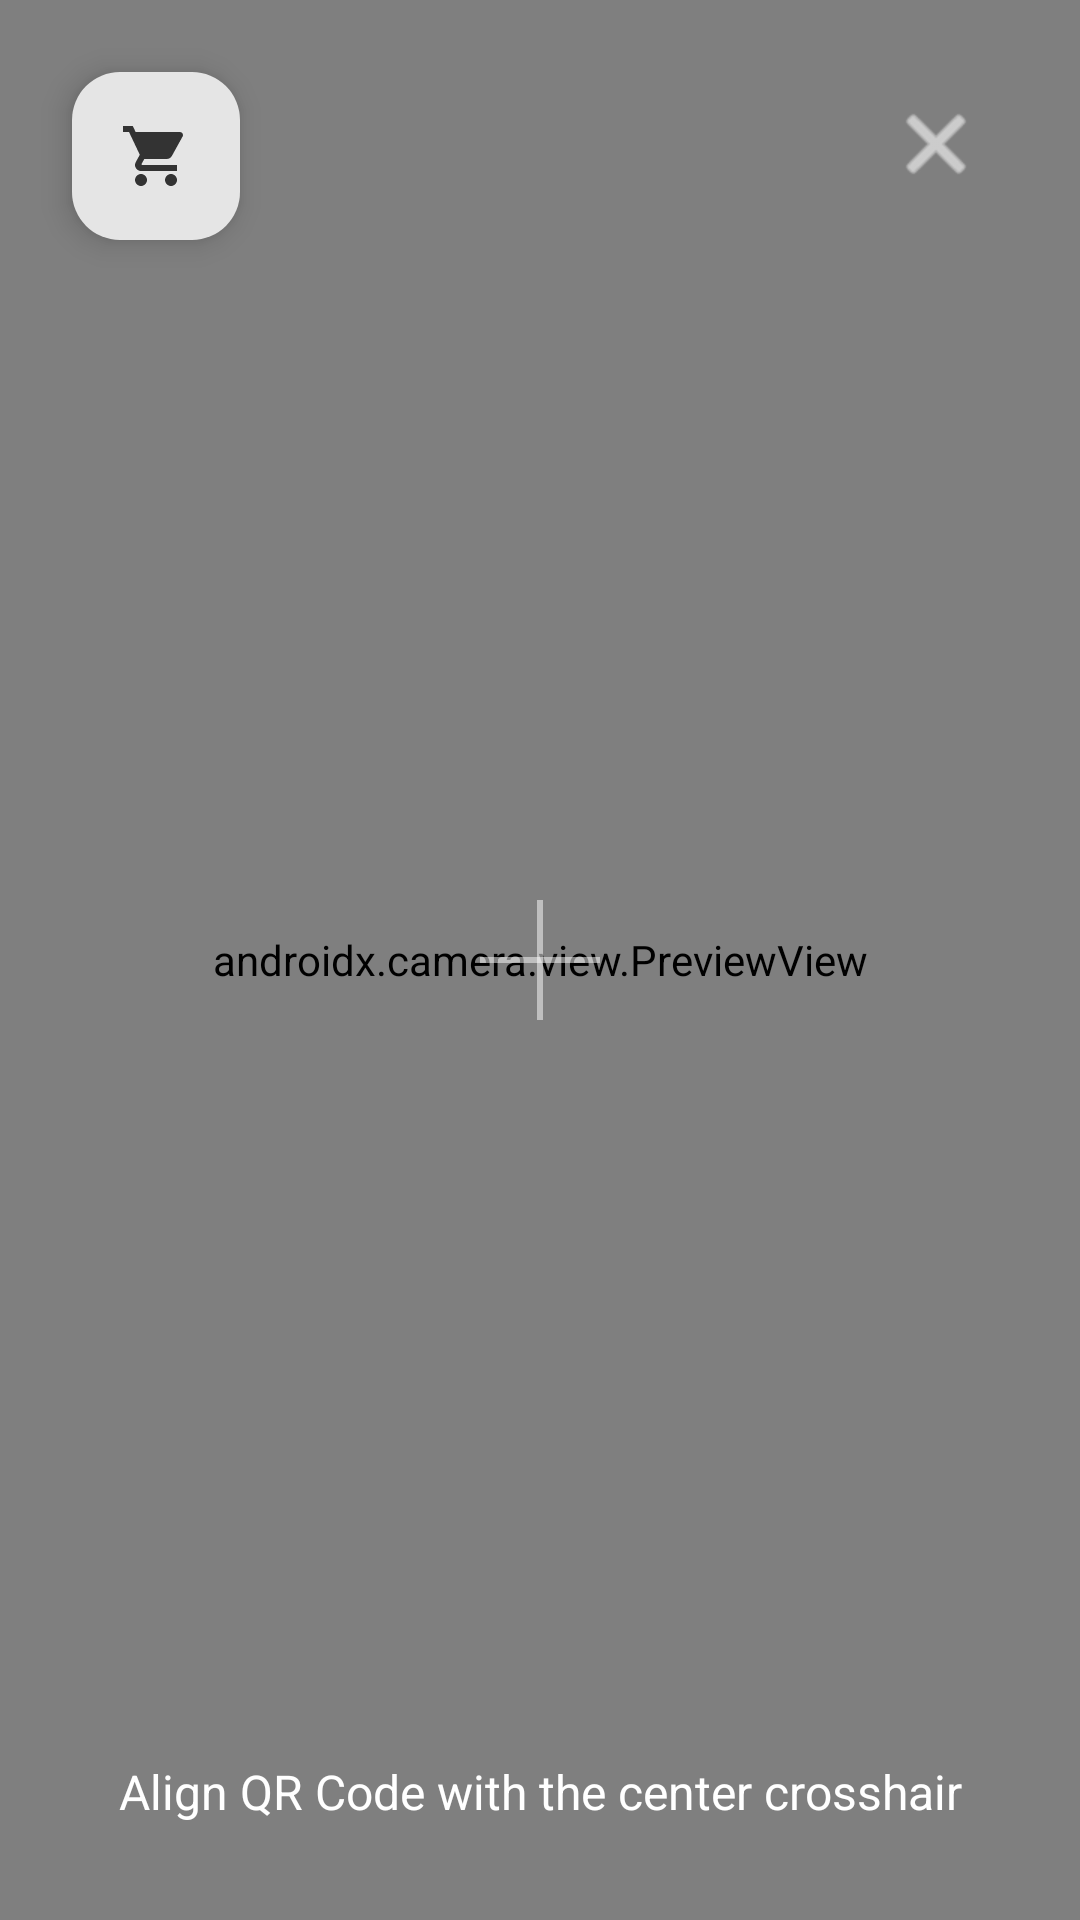

Icons on this 1080x1920 Android screen, each with the point to tap as point (x, y):
close clear cancel: point (936, 144)
shopping cart: point (156, 156)
